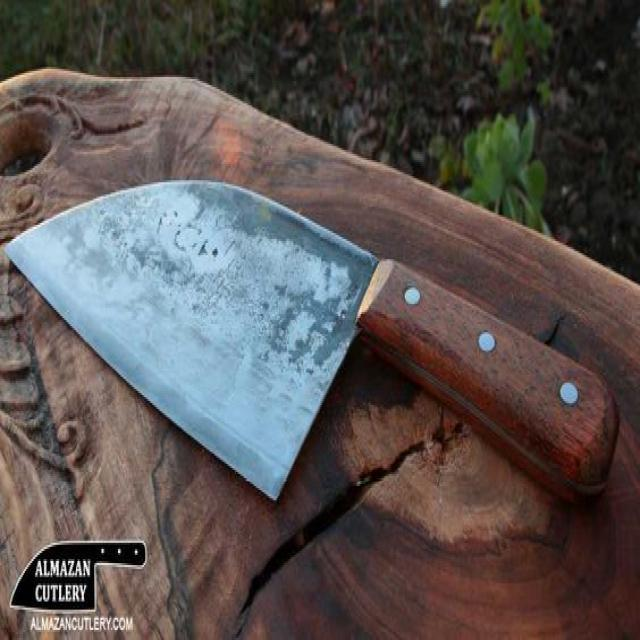cleaver: (11, 188, 614, 490)
